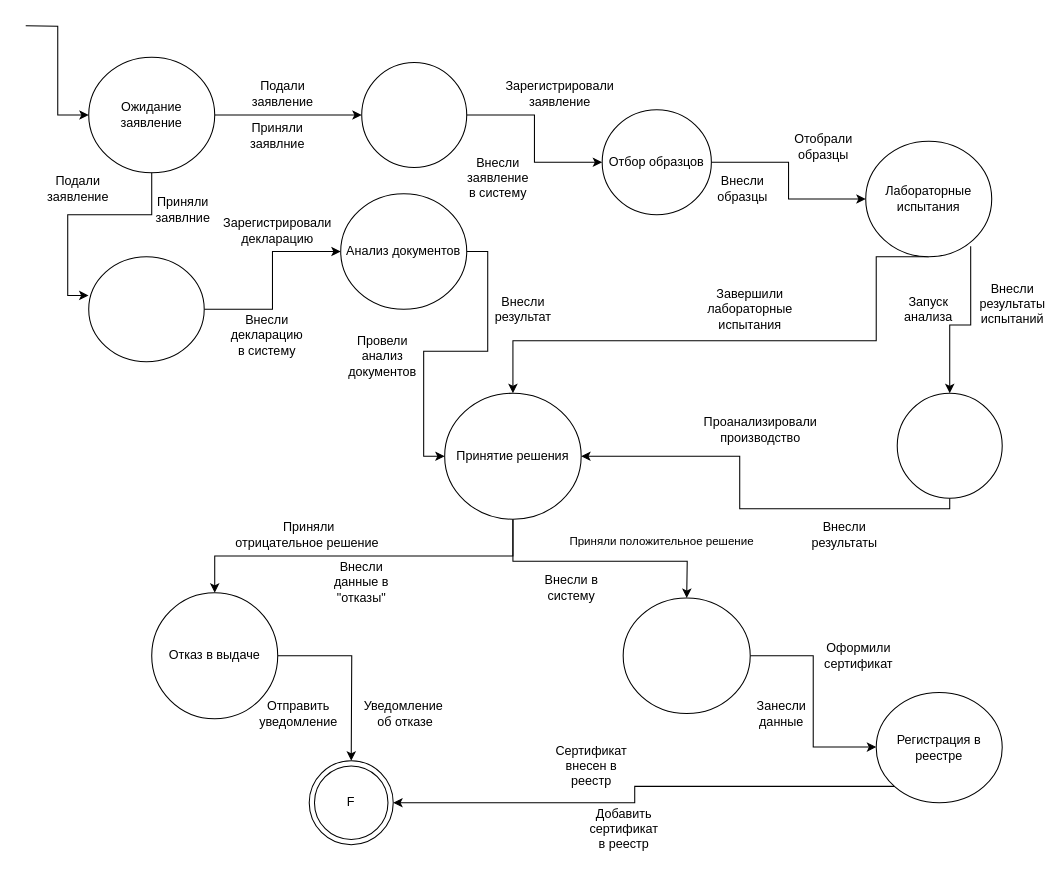
Some shapes in this 1064 by 869 pixel diagram are drawn without their labels. The box of each missing label's shape, as (x1, y1, x2, y2) in pixels:
Анализ производства: (896, 392, 1002, 498)
Выдача сертифката: (622, 597, 750, 713)
Регистрация декларации: (88, 256, 204, 362)
Регистрация заявления: (361, 61, 467, 167)
